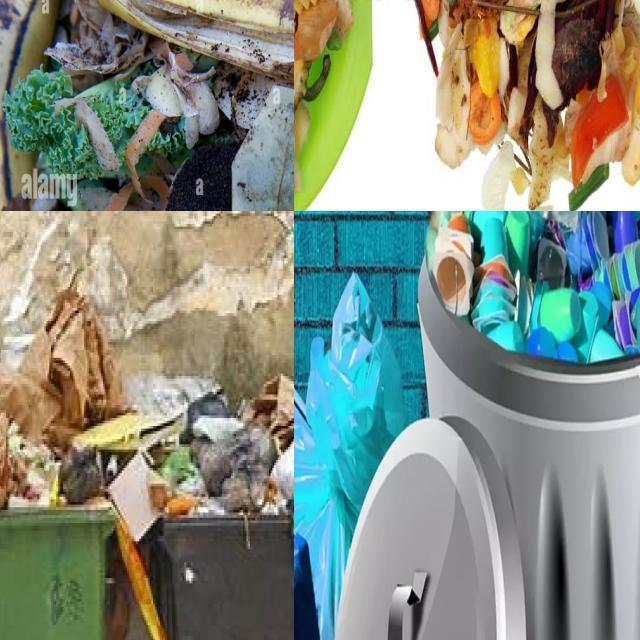Garbage: (404, 0, 640, 211), (427, 211, 640, 363), (0, 331, 127, 505)
Plastic: (427, 211, 640, 363)
